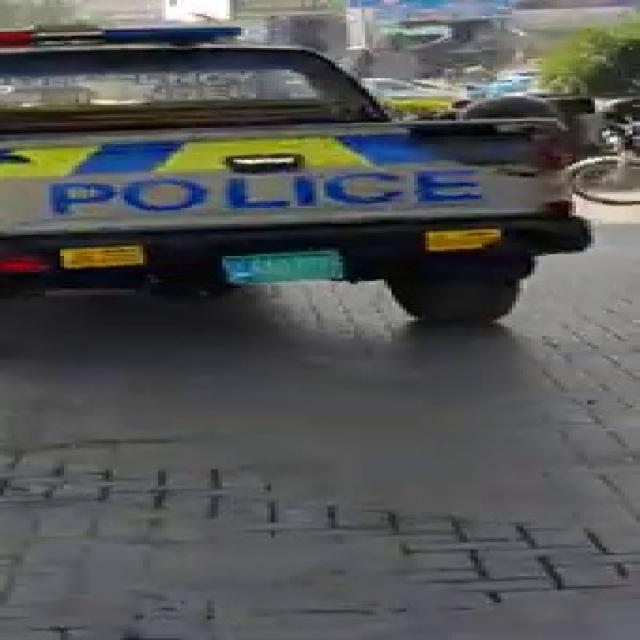police: (0, 34, 567, 320)
